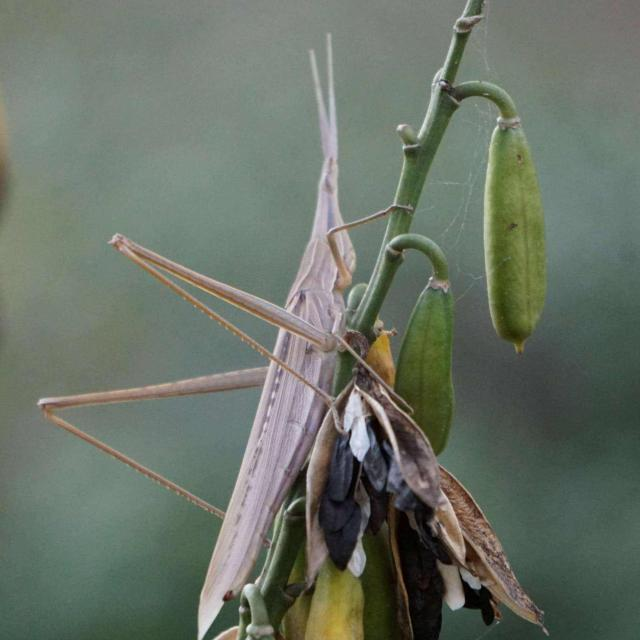ZhaMeng: (35, 19, 409, 627)
